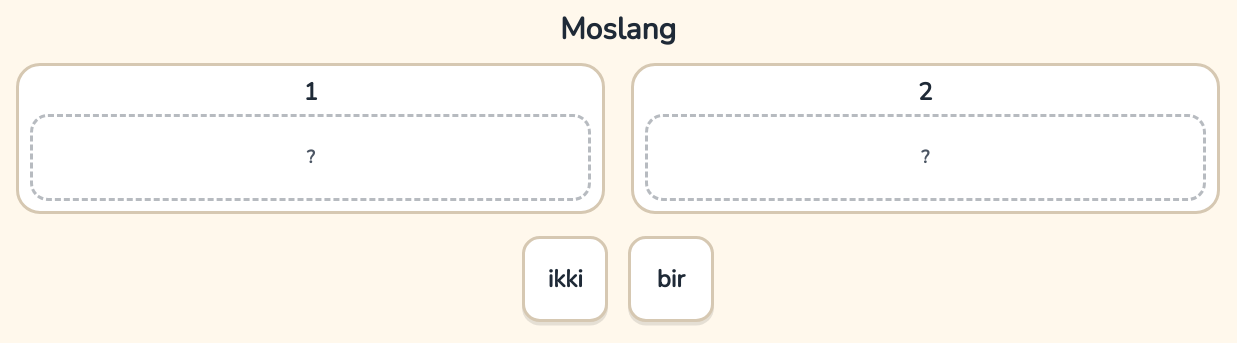
Scenario: drag-match › sichqoncha/sensor bilan sudrab tashlash
Press the mouse on the button "bir" at (671, 279), box [628,236,714,322]
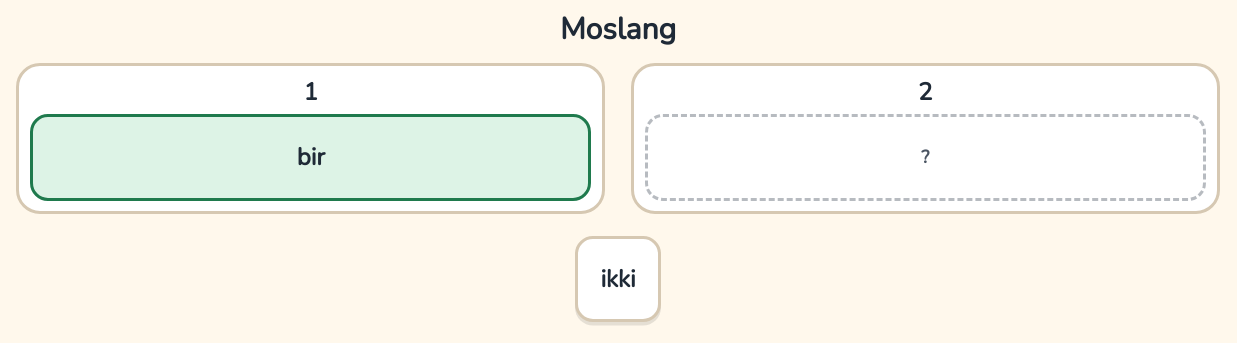
Check: the button with aria-label "1 joyi: bir" is shown, box [16,63,605,214]
